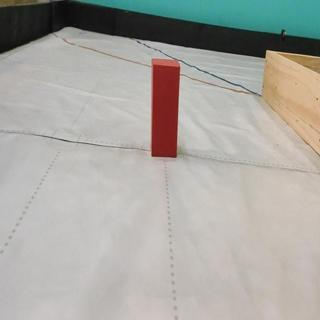redbox: (150, 56, 181, 157)
